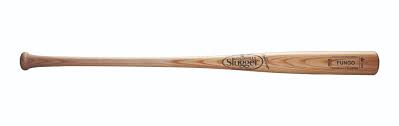bat: (19, 49, 381, 77)
